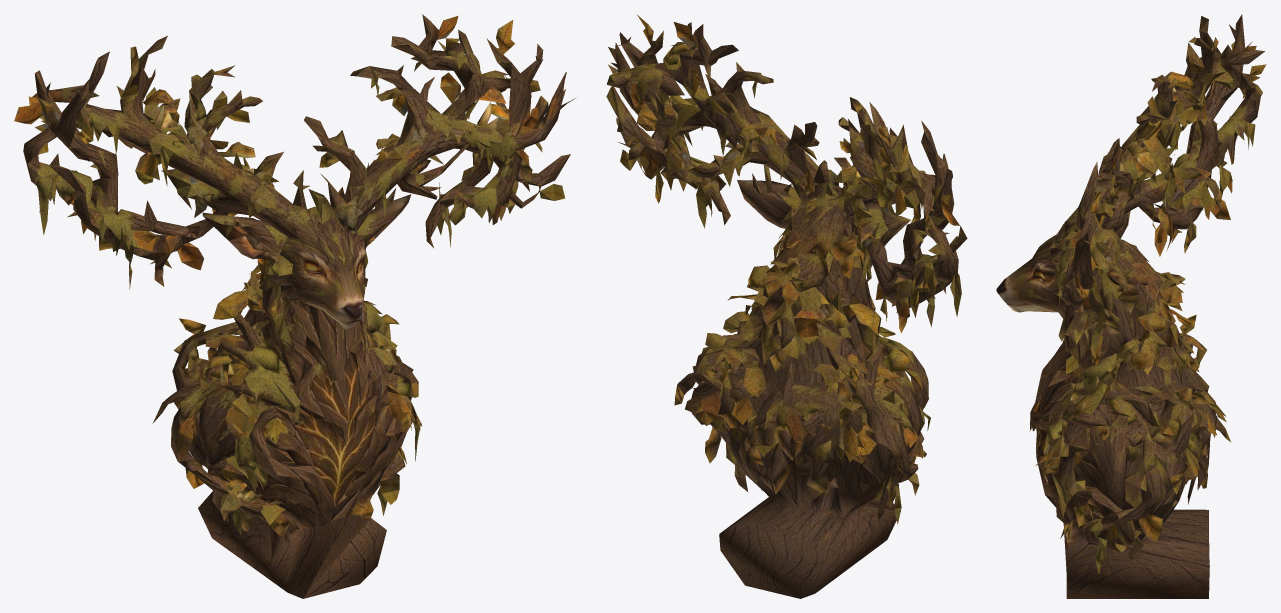
The model's file is gladehart.glb.
3 views of the same model, side by side, from view 1: azimuth 30°, elevation 25°; view 2: azimuth 150°, elevation 25°; view 3: azimuth 270°, elevation 25° (orthographic). The views are drawn at different scales.
Size of the model in its own units: 1.84 by 2 by 0.9715.
1 material, 1 textured.
